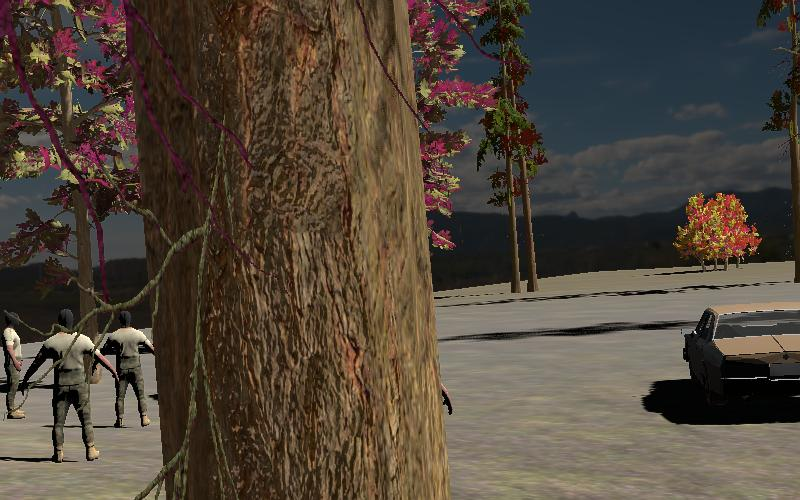Human: (19, 302, 121, 467), (93, 308, 162, 432), (0, 308, 28, 424)
car: (678, 300, 800, 410)
